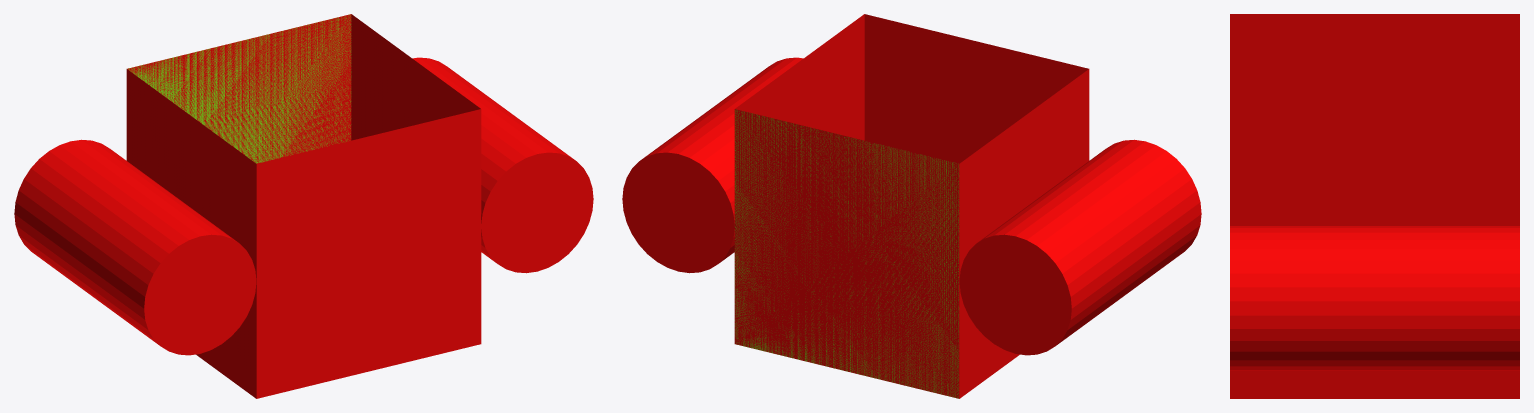
The model's file is EvilTVSet.dae.
The picture shows the model from 3 angles, left to right: view 1: azimuth 30°, elevation 25°; view 2: azimuth 150°, elevation 25°; view 3: azimuth 270°, elevation 25°; orthographic projection. The views are drawn at different scales.
Parts seen in each view (by area): view 1: EvilTVSet, Engine1, FrontFace, Engine2; view 2: EvilTVSet, Engine1, FrontFace, Engine2; view 3: EvilTVSet, Engine2.
Boxes of the visible parts, x1,y1,x2,y2 form: EvilTVSet: (126,14,481,398); Engine1: (14,139,256,355); FrontFace: (127,14,351,163); Engine2: (412,57,593,273); EvilTVSet: (734,14,1089,398); Engine1: (959,139,1201,355); FrontFace: (734,109,959,398); Engine2: (622,57,803,273); EvilTVSet: (1230,14,1519,398); Engine2: (1230,226,1519,370).
Size of the model in its own units: 4 by 2 by 2.
